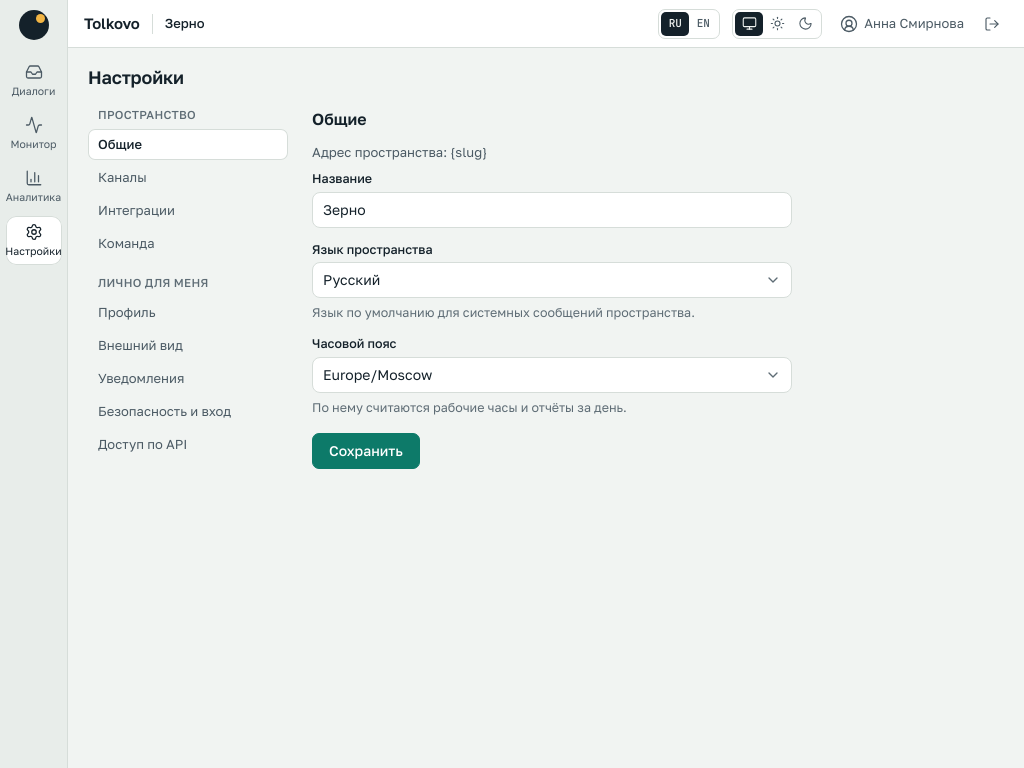
Scenario: workspace settings › explains a server refusal
Click the button "Сохранить" at (366, 451), box [312, 433, 420, 469]
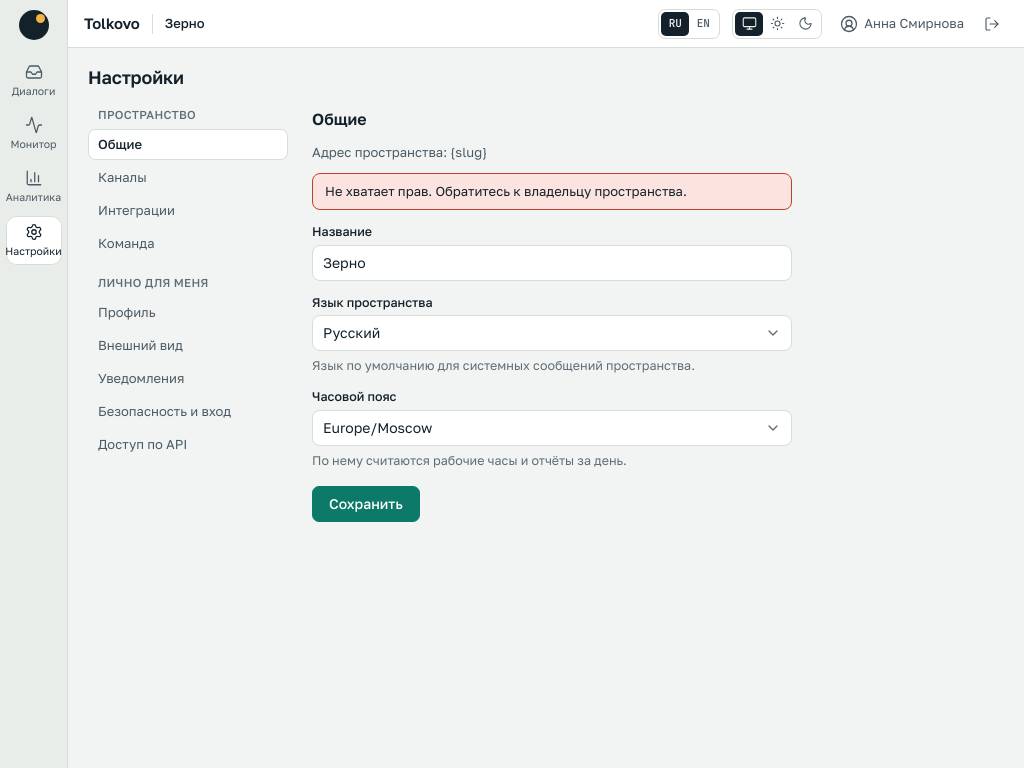
Expected: the message shows "Не хватает прав", [325, 183, 687, 199]
